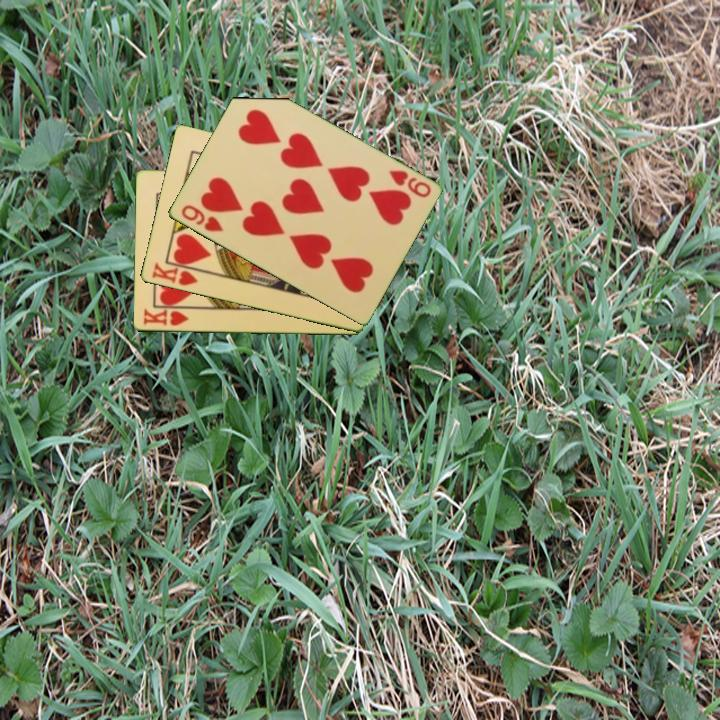9h: (385, 167, 434, 201), (177, 201, 225, 235)
Kh: (148, 259, 205, 289), (140, 305, 195, 329)
